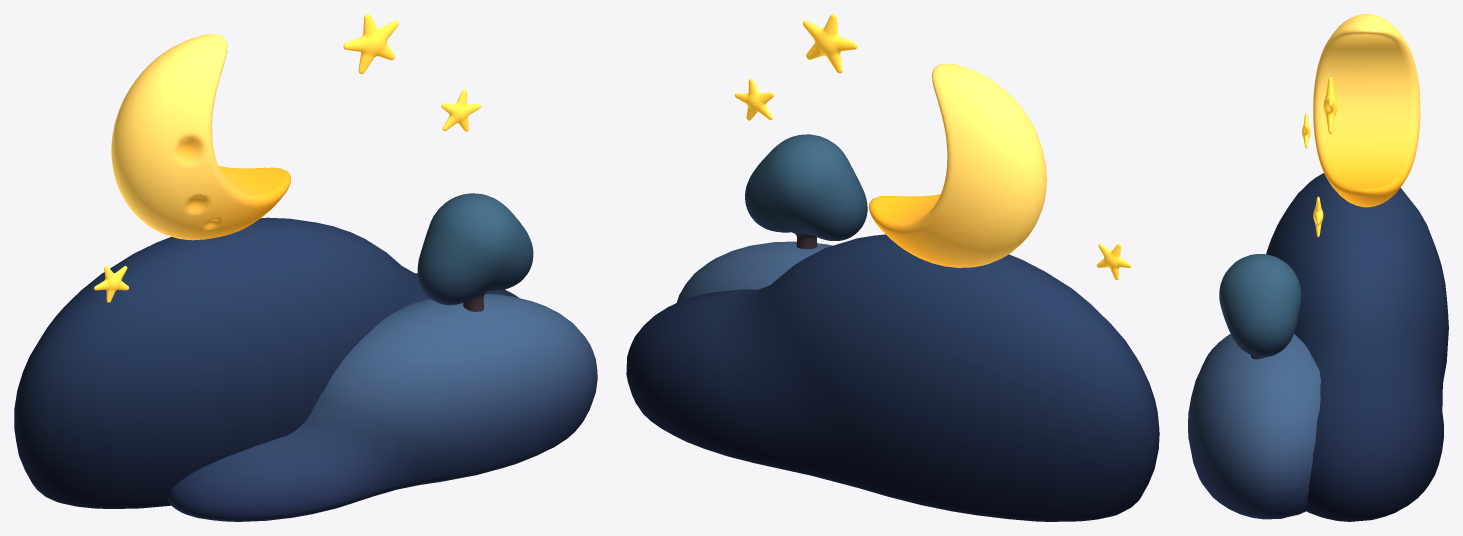
Rendered from night.glb.
The picture shows the model from 3 angles, left to right: view 1: azimuth 30°, elevation 25°; view 2: azimuth 150°, elevation 25°; view 3: azimuth 270°, elevation 25°; orthographic projection. The views are drawn at different scales.
Visible parts, largest first — view 1: hill-back+hill-front, moon, tree, star; view 2: hill-back+hill-front, moon, tree, star; view 3: hill-back+hill-front, moon, tree, star.
Part boxes in pixels (x1,y1,x2,y2): hill-back+hill-front: (14, 217, 597, 521); moon: (111, 34, 290, 240); tree: (417, 193, 533, 311); star: (94, 14, 480, 302); hill-back+hill-front: (626, 234, 1159, 521); moon: (869, 63, 1046, 267); tree: (745, 134, 867, 249); star: (734, 14, 1131, 279); hill-back+hill-front: (1188, 173, 1448, 521); moon: (1313, 14, 1420, 207); tree: (1219, 254, 1301, 359); star: (1302, 77, 1337, 237).
Size of the model in its own units: 2.22 by 1.7 by 1.08.
